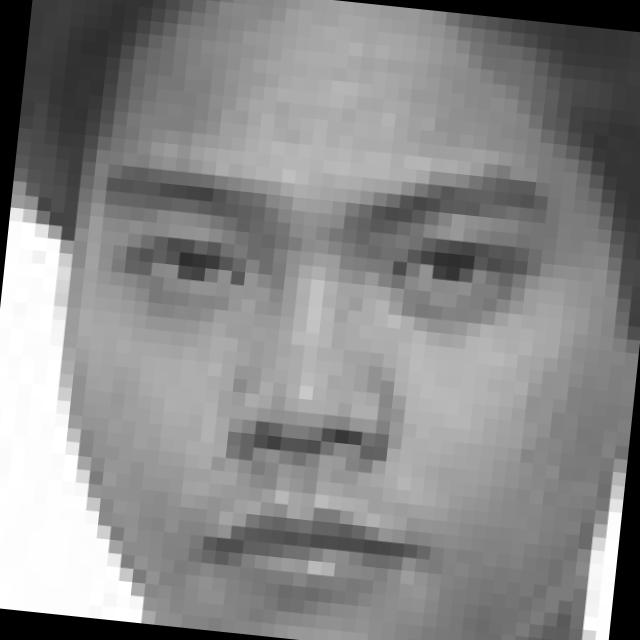neutral: (62, 126, 574, 631)
